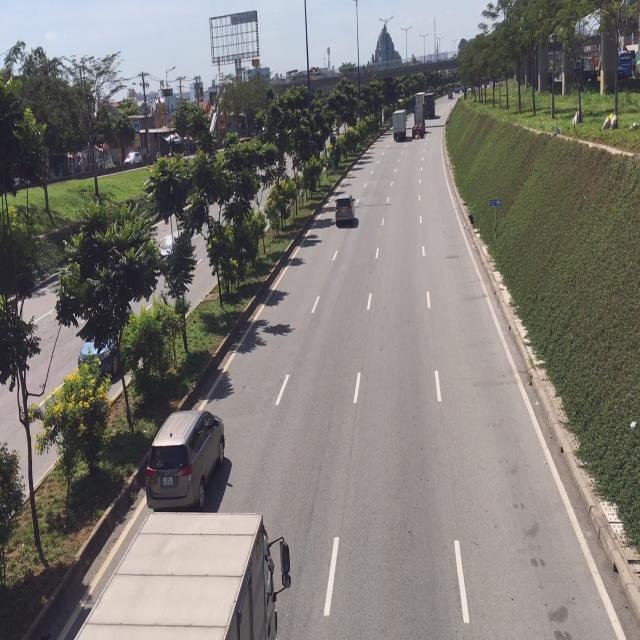car: (145, 407, 231, 512), (334, 192, 356, 230)
truck: (70, 510, 288, 636), (391, 111, 408, 143)
